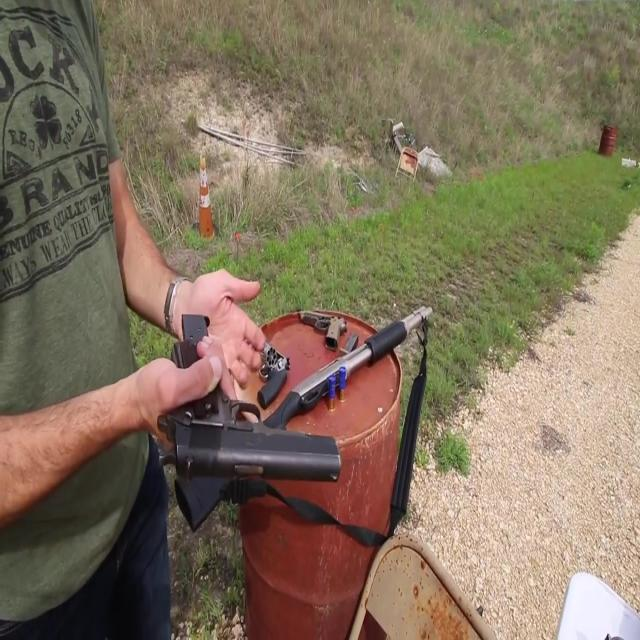Weapon: (111, 210, 465, 624)
